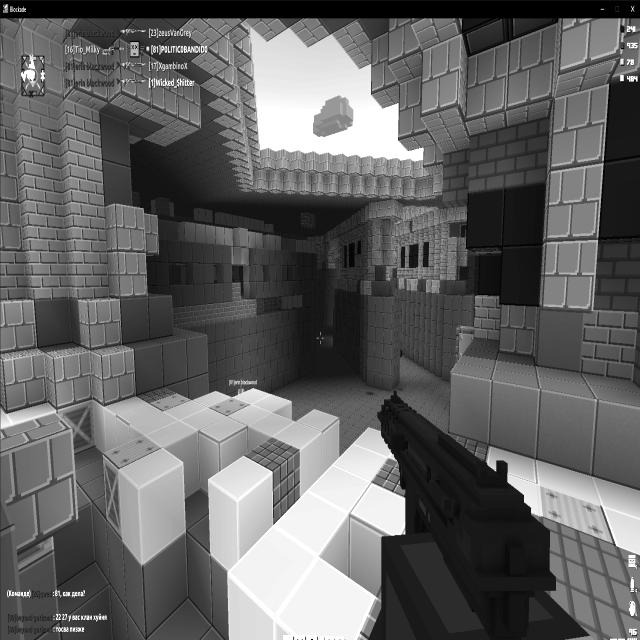Head: (237, 386, 246, 396)
